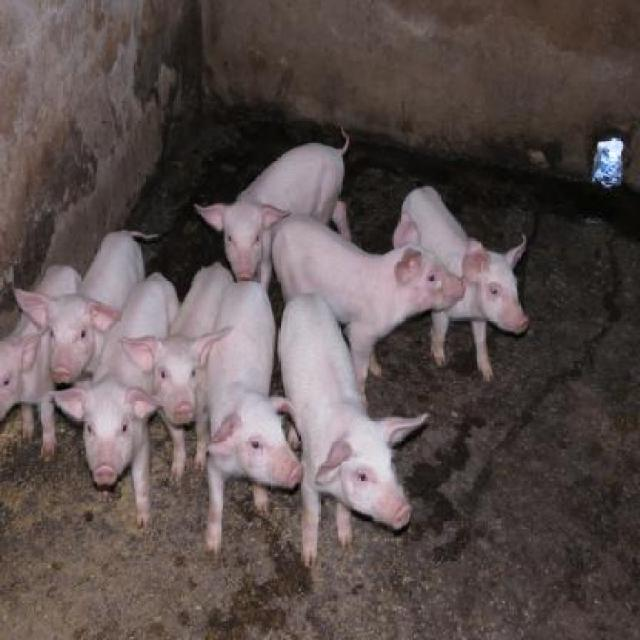pig: (0, 125, 529, 567)
